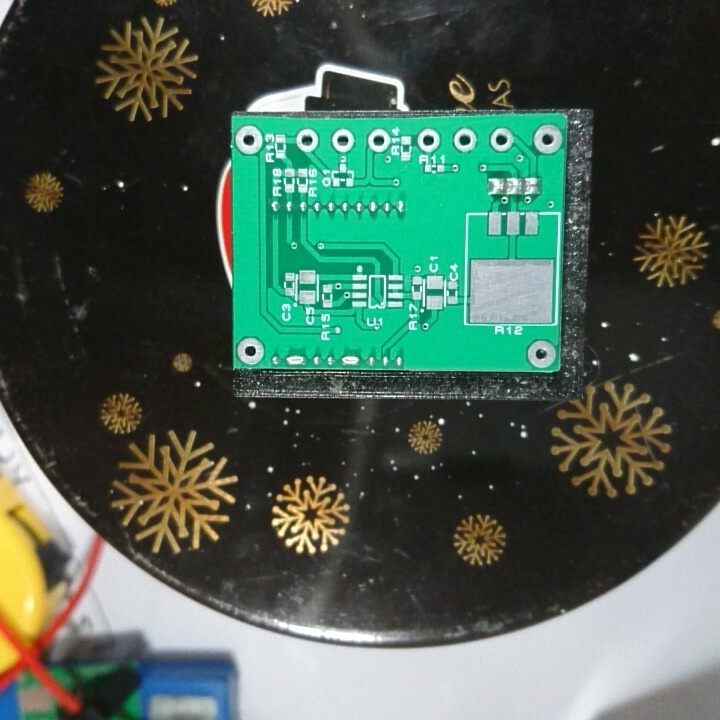F: (524, 335, 559, 369), (234, 332, 268, 367), (531, 120, 562, 156), (234, 123, 263, 157), (449, 124, 479, 155), (487, 123, 514, 154), (415, 125, 442, 155), (294, 126, 321, 155), (365, 125, 391, 155), (329, 127, 356, 155)
P: (338, 350, 361, 372), (283, 352, 307, 370)
